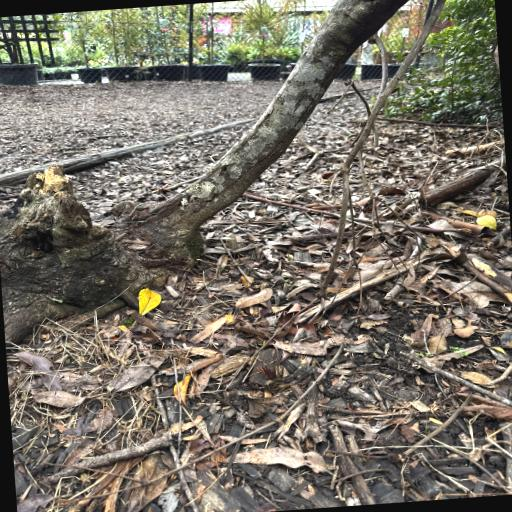tree root: (0, 0, 413, 342)
